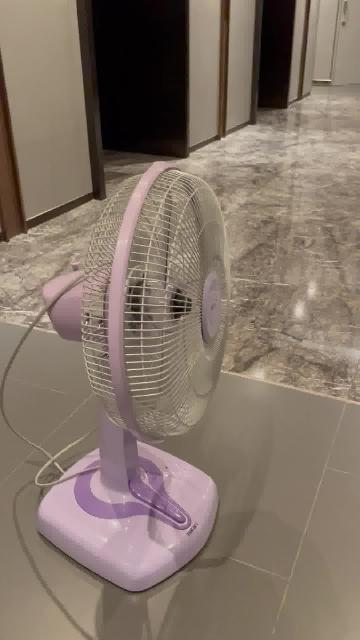Fan: (37, 162, 230, 594)
